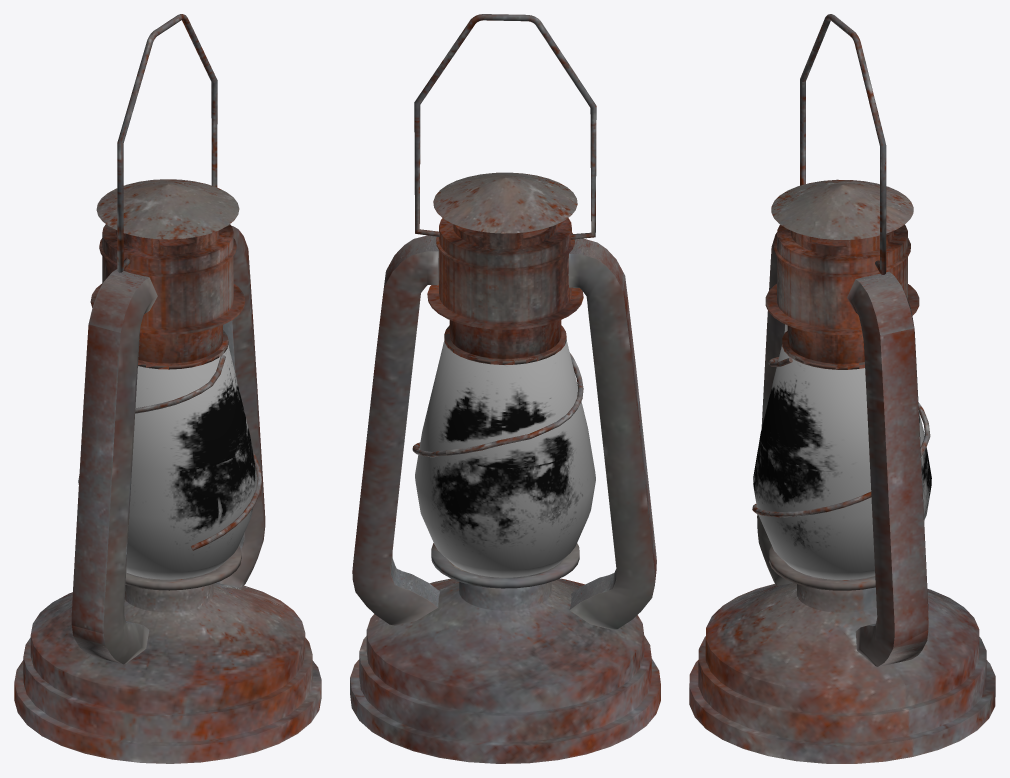
The model's file is lamp.glb.
3 views of the same model, side by side, from view 1: azimuth 30°, elevation 25°; view 2: azimuth 150°, elevation 25°; view 3: azimuth 270°, elevation 25° (orthographic).
Visible parts, largest first — view 1: Cylinder; view 2: Cylinder; view 3: Cylinder.
Part boxes in pixels (x1,y1,x2,y2): Cylinder: (14, 14, 321, 763); Cylinder: (350, 14, 660, 763); Cylinder: (689, 14, 995, 763).
Bounding box in the file's own units: 0.1691 × 0.4117 × 0.1691.
Materials: 1 (1 with a texture image).
